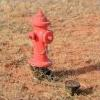a fire hydrant: (26, 8, 55, 68)
